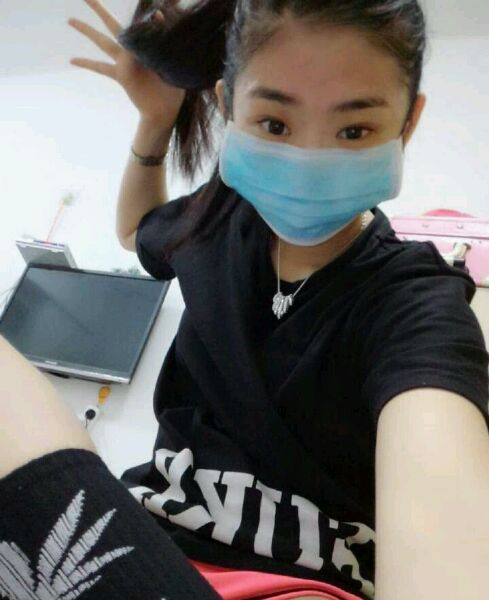face_mask: (226, 8, 402, 248)
